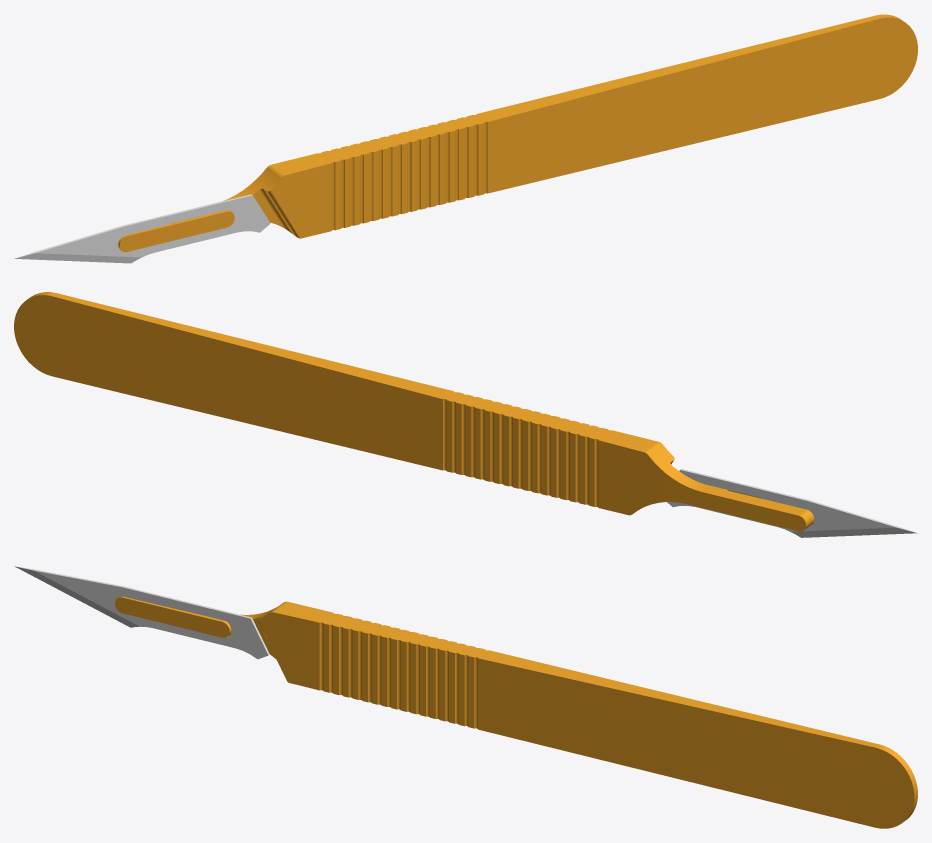
File: o_scalpel_v2.obj
3 views of the same model, one above another, from view 1: azimuth 30°, elevation 25°; view 2: azimuth 150°, elevation 25°; view 3: azimuth 330°, elevation 25° (orthographic).
Visible parts, largest first — view 1: scalpel_part-1-solid1, scalpel_part-1-solid2; view 2: scalpel_part-1-solid1, scalpel_part-1-solid2; view 3: scalpel_part-1-solid1, scalpel_part-1-solid2.
Part boxes in pixels (x1=…): scalpel_part-1-solid1: x1=118, y1=14, x2=917, y2=252; scalpel_part-1-solid2: x1=14, y1=194, x2=270, y2=263; scalpel_part-1-solid1: x1=14, y1=292, x2=814, y2=531; scalpel_part-1-solid2: x1=667, y1=469, x2=917, y2=537; scalpel_part-1-solid1: x1=115, y1=596, x2=917, y2=828; scalpel_part-1-solid2: x1=15, y1=566, x2=269, y2=659.
Size of the model in its own units: 0.1411 by 0.012 by 0.004.
